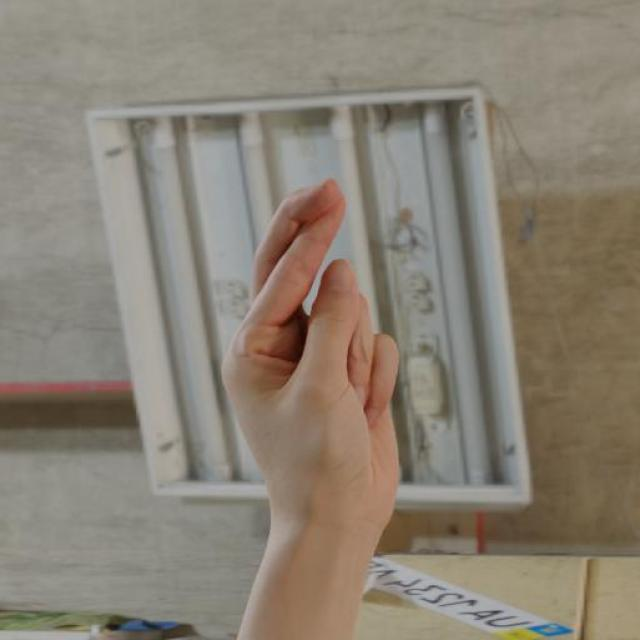R: (218, 174, 407, 524)
